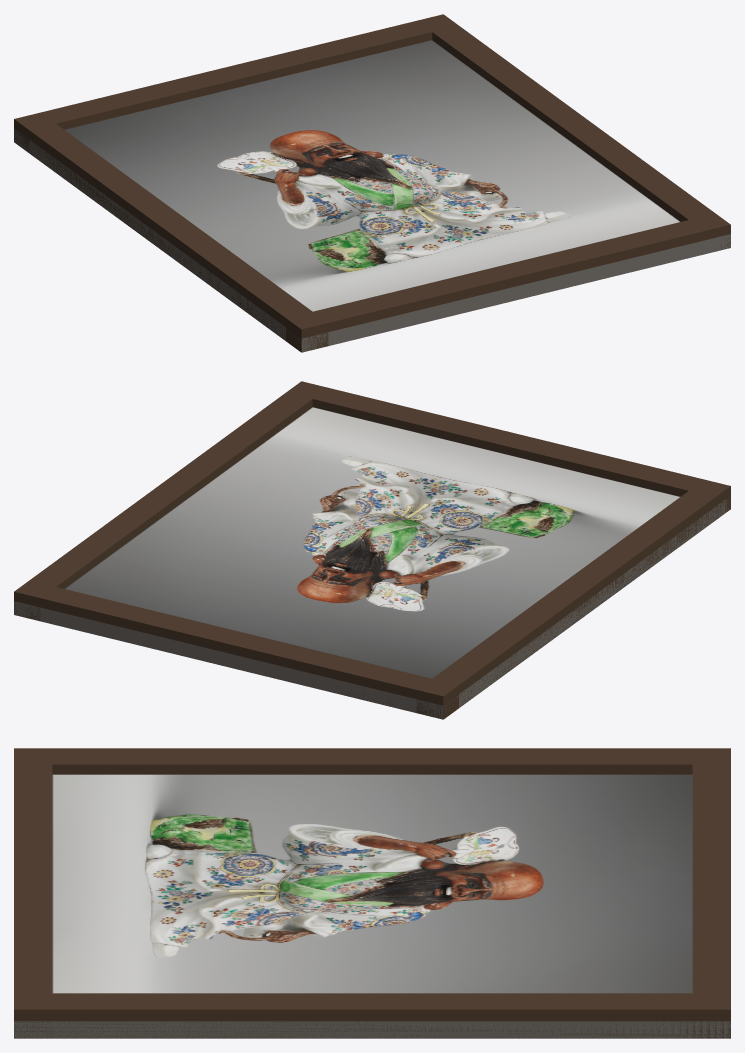
The model's file is framed_artwork.glb.
The picture shows the model from 3 angles, top to bottom: view 1: azimuth 30°, elevation 25°; view 2: azimuth 150°, elevation 25°; view 3: azimuth 270°, elevation 25°; orthographic projection. The views are drawn at different scales.
Parts seen in each view (by area): view 1: Artwork_Image_Front, Frame_Left, Frame_Bottom, Back_Board, Frame_Right, Frame_Top; view 2: Artwork_Image_Front, Frame_Left, Back_Board, Frame_Right, Frame_Top, Frame_Bottom; view 3: Artwork_Image_Front, Frame_Right, Frame_Left, Back_Board, Frame_Bottom, Frame_Top.
Part boxes in pixels (bbox=[...]): Artwork_Image_Front: bbox=[65, 40, 679, 311]; Frame_Left: bbox=[14, 112, 328, 352]; Frame_Bottom: bbox=[286, 218, 725, 352]; Back_Board: bbox=[14, 128, 730, 352]; Frame_Right: bbox=[417, 14, 730, 249]; Frame_Top: bbox=[14, 15, 456, 152]; Artwork_Image_Front: bbox=[65, 407, 679, 678]; Frame_Left: bbox=[416, 480, 729, 719]; Back_Board: bbox=[14, 499, 729, 719]; Frame_Right: bbox=[14, 381, 326, 620]; Frame_Top: bbox=[35, 587, 458, 719]; Frame_Bottom: bbox=[286, 381, 730, 511]; Artwork_Image_Front: bbox=[52, 774, 692, 993]; Frame_Right: bbox=[14, 993, 730, 1038]; Frame_Left: bbox=[15, 748, 730, 774]; Back_Board: bbox=[14, 1021, 730, 1038]; Frame_Bottom: bbox=[14, 748, 52, 1038]; Frame_Top: bbox=[692, 748, 730, 1038].
Bounding box in the file's own units: 1.93 × 0.1 × 2.24.
3 materials, 1 textured.
